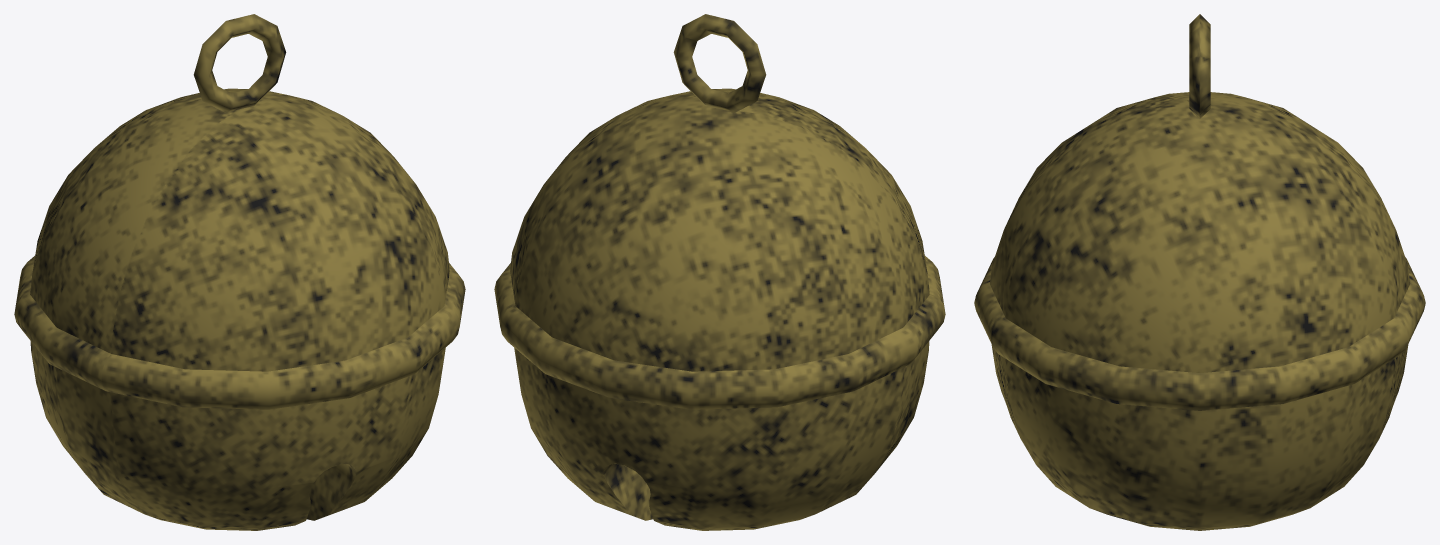
Rendered from 大祓の鈴.fbx.
3 views of the same model, side by side, from view 1: azimuth 30°, elevation 25°; view 2: azimuth 150°, elevation 25°; view 3: azimuth 270°, elevation 25° (orthographic).
Visible parts, largest first — view 1: bell; view 2: bell; view 3: bell.
Part boxes in pixels (x1,y1,x2,y2): bell: (14,14,465,530); bell: (494,14,945,530); bell: (974,14,1425,530).
Bounding box in the file's own units: 10.65 × 12.32 × 10.65.
